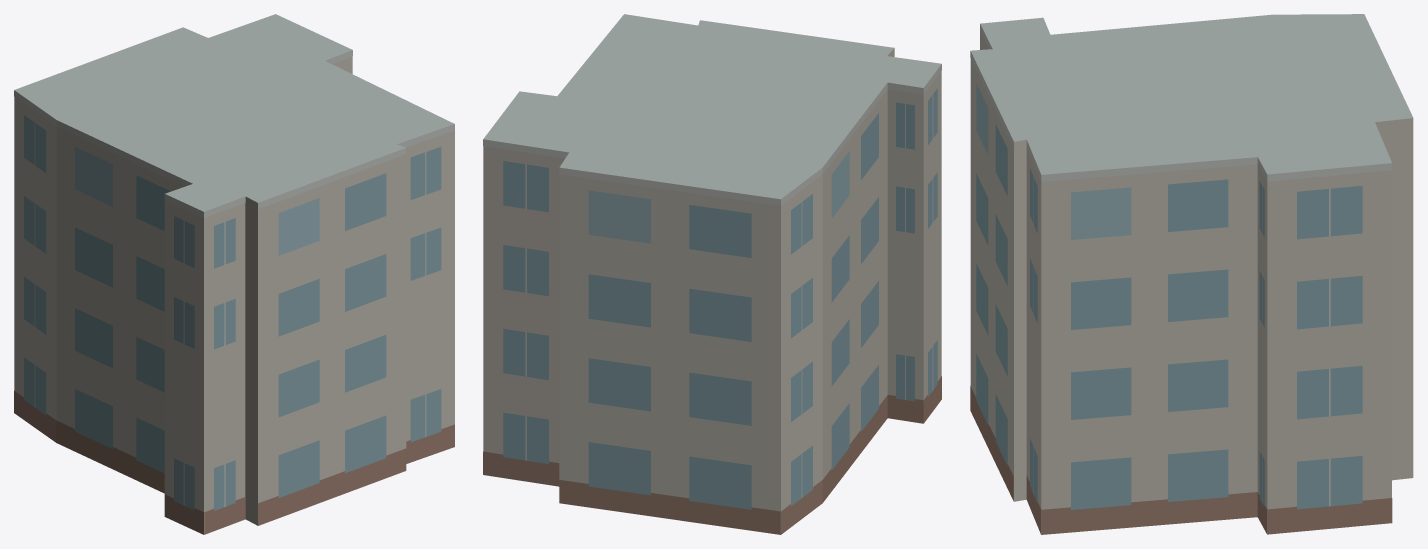
File: survey-upis-32495806.glb
The picture shows the model from 3 angles, left to right: view 1: azimuth 30°, elevation 25°; view 2: azimuth 150°, elevation 25°; view 3: azimuth 270°, elevation 25°; orthographic projection. The views are drawn at different scales.
Parts seen in each view (by area): view 1: survey-upis-32495806.tmp; view 2: survey-upis-32495806.tmp; view 3: survey-upis-32495806.tmp.
Part boxes in pixels (left/top/right/bottom): survey-upis-32495806.tmp: left=14, top=14, right=454, bottom=534; survey-upis-32495806.tmp: left=483, top=14, right=941, bottom=534; survey-upis-32495806.tmp: left=970, top=14, right=1413, bottom=534.
Size of the model in its own units: 11.7 by 12.2 by 13.62.
